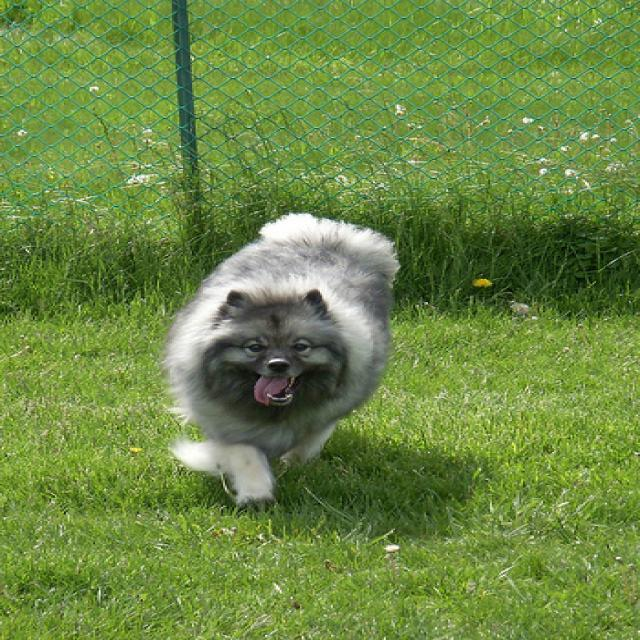dog-keeshond: (146, 205, 406, 517)
